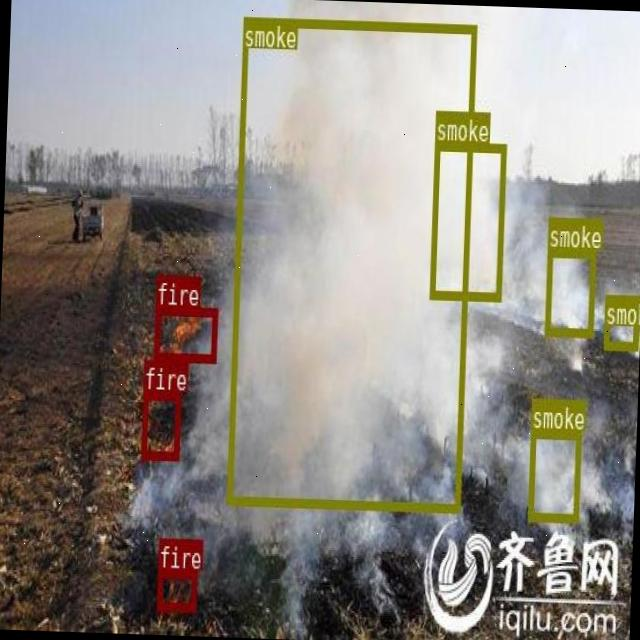fire: (152, 306, 216, 360), (142, 390, 180, 458), (155, 568, 195, 610)
smoke: (225, 16, 476, 511), (428, 140, 504, 299), (528, 428, 580, 520), (544, 246, 594, 334), (603, 293, 639, 349)
